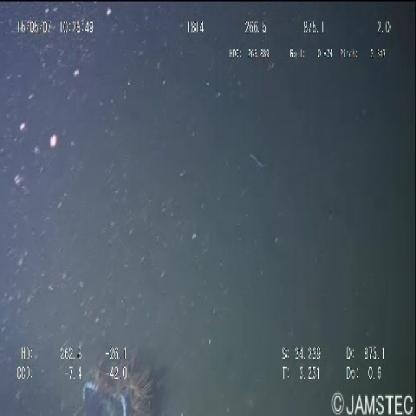Rác: (77, 365, 130, 416)
